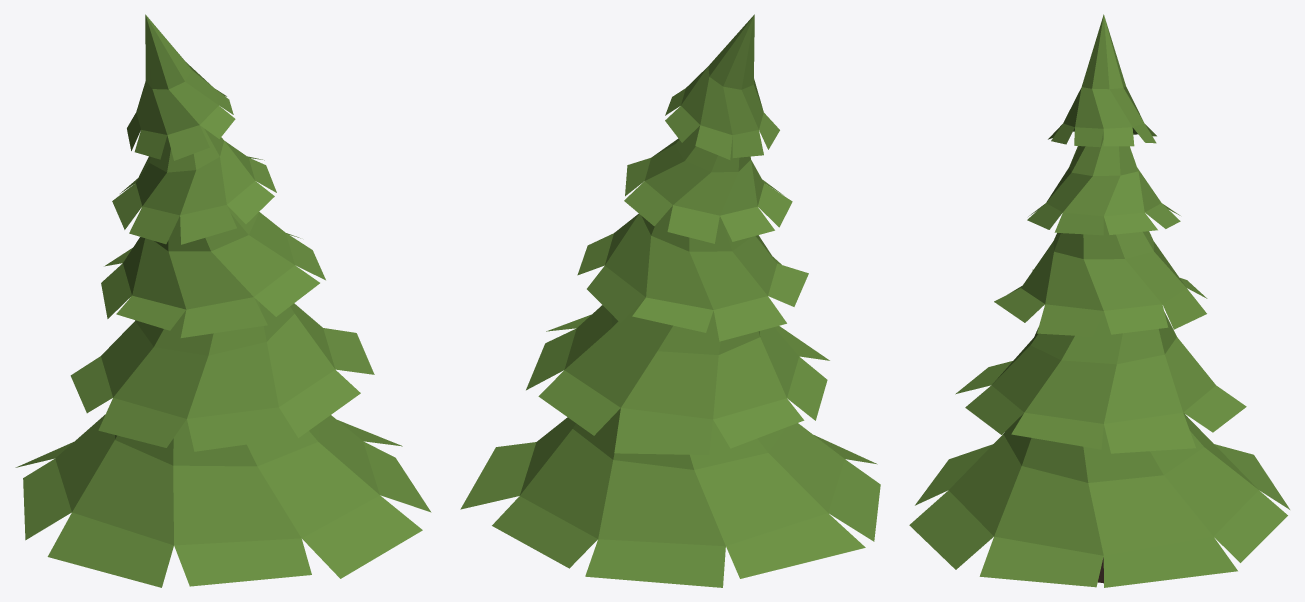
File: pino4.fbx
3 renders of one model, left to right at view 1: azimuth 30°, elevation 25°; view 2: azimuth 150°, elevation 25°; view 3: azimuth 270°, elevation 25°, orthographic. The views are drawn at different scales.
Parts seen in each view (by area): view 1: pino_4:Mesh; view 2: pino_4:Mesh; view 3: pino_4:Mesh.
Part boxes in pixels (bbox=[...]): pino_4:Mesh: bbox=[15, 14, 431, 587]; pino_4:Mesh: bbox=[460, 14, 880, 587]; pino_4:Mesh: bbox=[909, 14, 1289, 587].
Bounding box in the file's own units: 7.1 × 10.34 × 6.8.
Materials: 1 (1 with a texture image).
